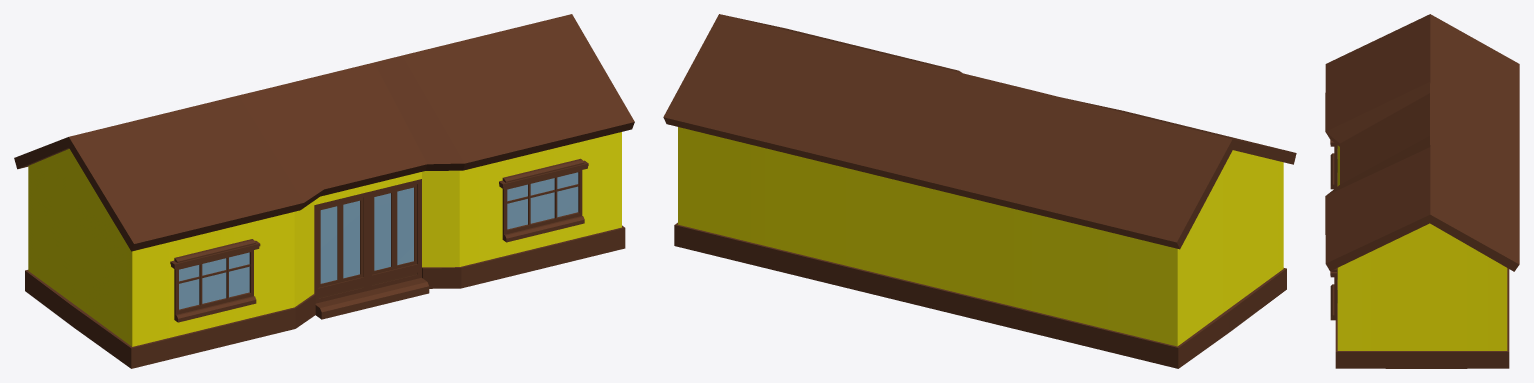
The model's file is Env_ResidentBuilding_06.fbx.
3 views of the same model, side by side, from view 1: azimuth 30°, elevation 25°; view 2: azimuth 150°, elevation 25°; view 3: azimuth 270°, elevation 25° (orthographic). The views are drawn at different scales.
Visible parts, largest first — view 1: Env_ResidentBuilding_06; view 2: Env_ResidentBuilding_06; view 3: Env_ResidentBuilding_06.
Part boxes in pixels (<box>): Env_ResidentBuilding_06: <box>14,14,634,368</box>; Env_ResidentBuilding_06: <box>663,14,1296,368</box>; Env_ResidentBuilding_06: <box>1325,14,1519,368</box>.
Size of the model in its own units: 1594 by 577 by 652.
1 material, 1 textured.
